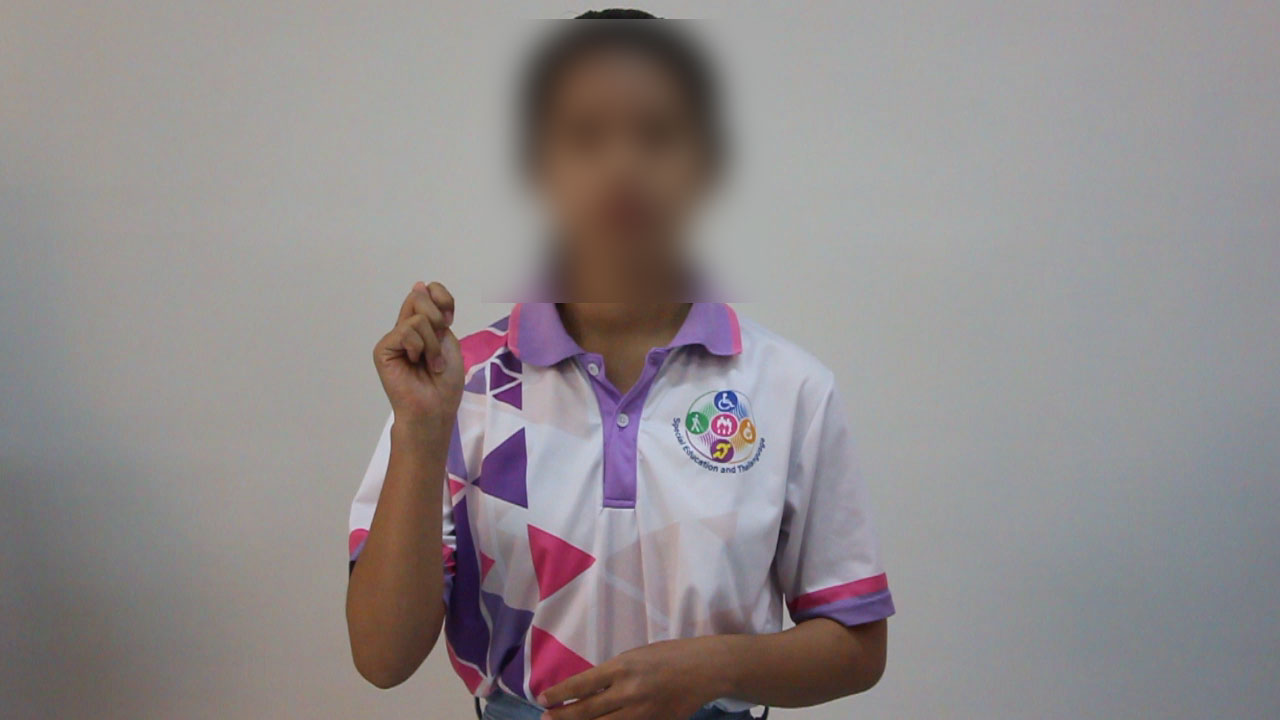tor: (362, 269, 490, 447)
